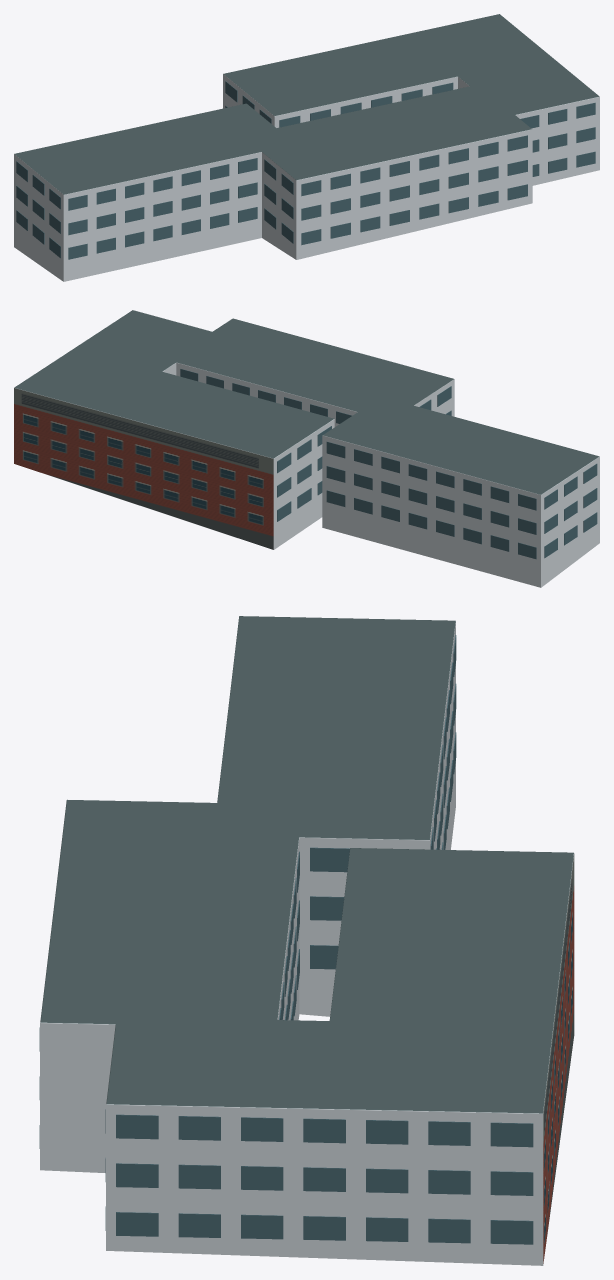
The model's file is intact.glb.
3 renders of one model, top to bottom at view 1: azimuth 30°, elevation 25°; view 2: azimuth 150°, elevation 25°; view 3: azimuth 270°, elevation 25°, orthographic. The views are drawn at different scales.
Parts seen in each view (by area): view 1: SM_kbsi_Intact_00, SM_kbsi_Intact_01; view 2: SM_kbsi_Intact_00, SM_kbsi_Intact_01; view 3: SM_kbsi_Intact_00, SM_kbsi_Intact_01.
Boxes of the visible parts, bbox=[...] form: SM_kbsi_Intact_00: bbox=[14, 14, 599, 281]; SM_kbsi_Intact_01: bbox=[16, 81, 595, 259]; SM_kbsi_Intact_00: bbox=[14, 310, 599, 587]; SM_kbsi_Intact_01: bbox=[180, 368, 597, 559]; SM_kbsi_Intact_00: bbox=[40, 616, 574, 1265]; SM_kbsi_Intact_01: bbox=[39, 635, 533, 1244].
Size of the model in its own units: 2.2 by 0.3831 by 0.9978.
4 materials, 1 textured.
